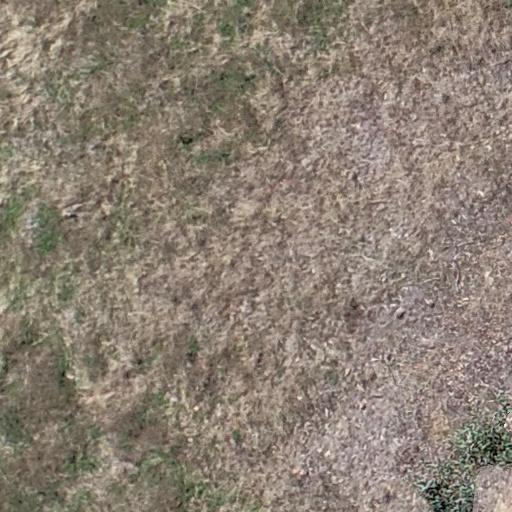stone: (62, 201, 87, 221), (3, 115, 19, 132), (98, 201, 113, 219), (422, 297, 438, 311), (412, 76, 426, 92), (86, 142, 102, 156), (178, 133, 195, 146), (350, 170, 362, 188), (455, 298, 470, 308), (395, 307, 407, 319), (290, 466, 304, 476), (384, 352, 394, 364), (65, 372, 76, 382), (352, 122, 364, 131), (476, 188, 485, 198), (359, 402, 367, 412), (323, 448, 331, 458), (192, 404, 200, 412), (186, 436, 194, 444), (297, 394, 303, 402)
